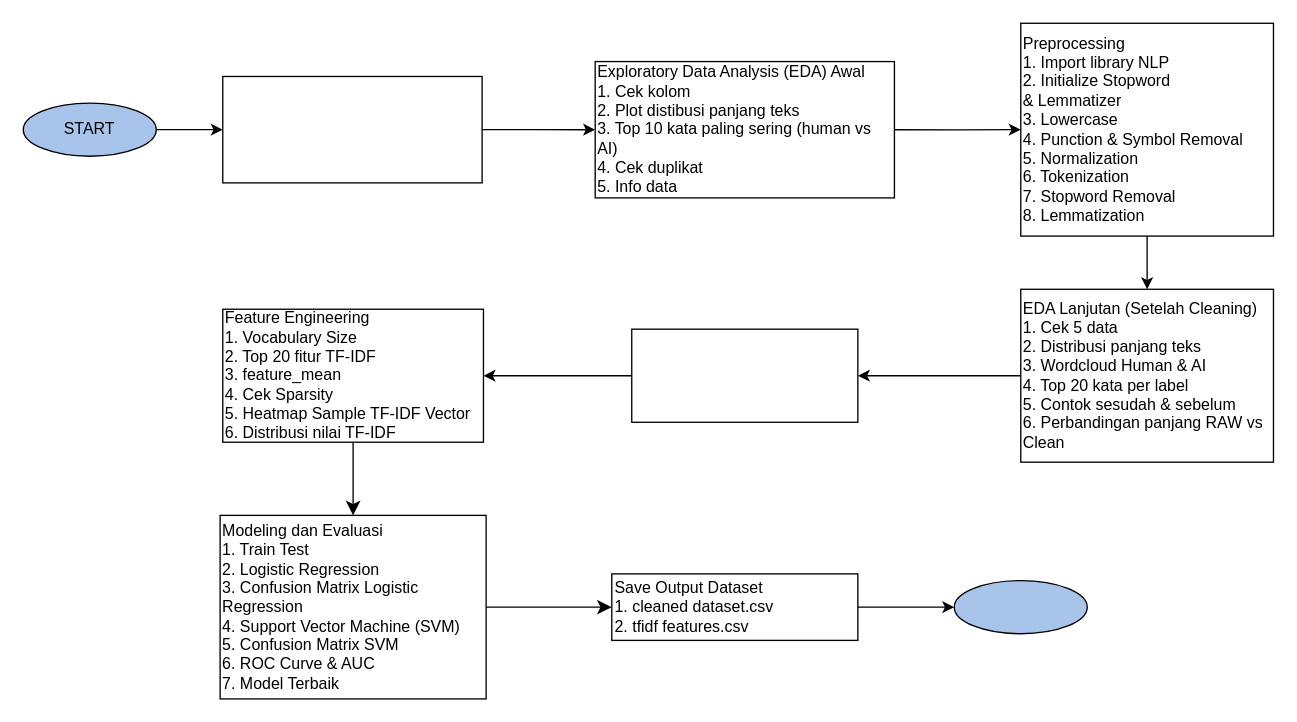
Image size: 1297x722. Some labels were removed from this diagram. Each missing label, with the box of its shape:
Feature Engineering 1. Import TF-IDF 2. TF-IDF Training 3. Cek X: (630, 328, 858, 422)
FINISH: (953, 579, 1087, 634)
Pengumpulan Dataset 1. Mount Google Drive 2. Set Folder Path 3. Load Dataset: (221, 75, 482, 183)
